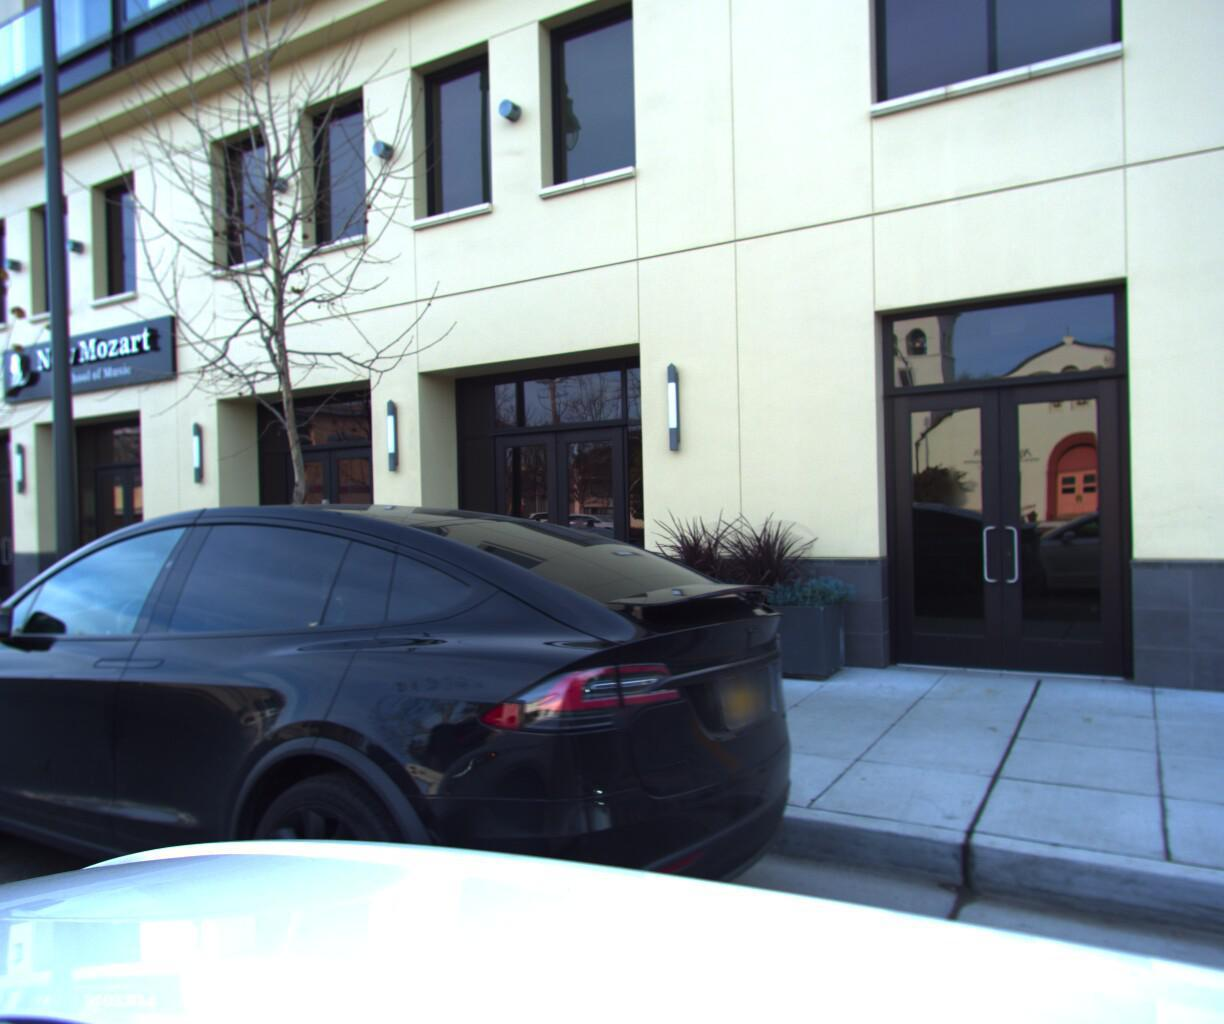car: (0, 496, 843, 1024), (0, 524, 71, 786)
